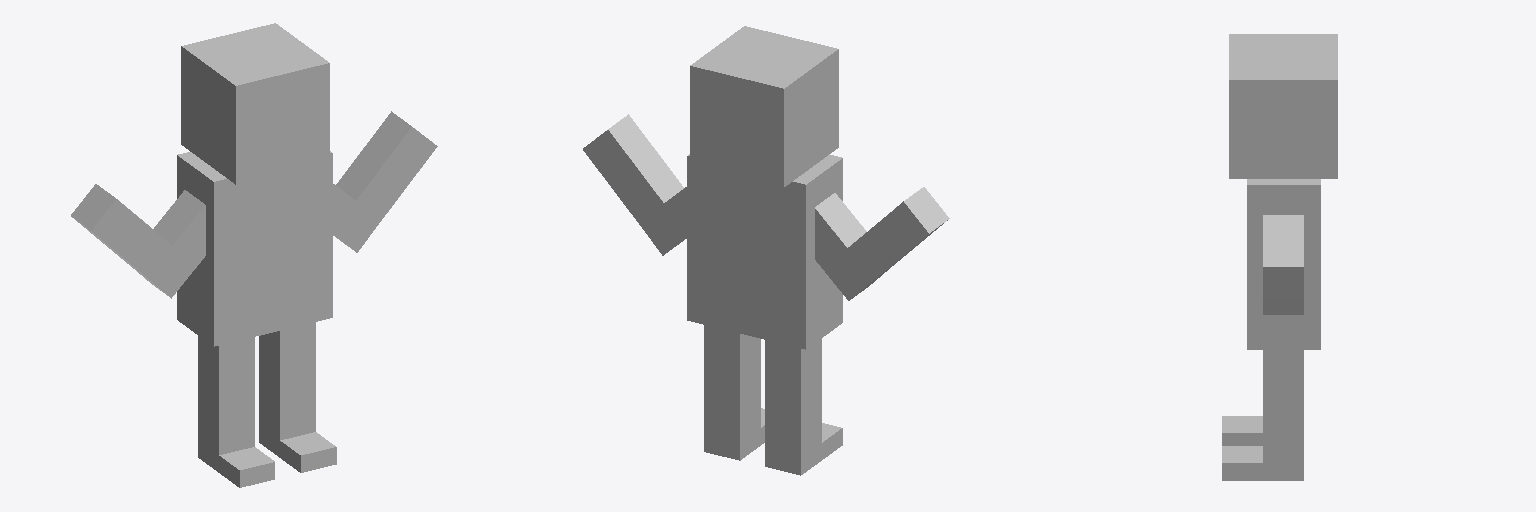
Rendered from boss.obj.
The picture shows the model from 3 angles: view 1: azimuth 30°, elevation 25°; view 2: azimuth 150°, elevation 25°; view 3: azimuth 270°, elevation 25°; orthographic projection.
Parts seen in each view (by area): view 1: Cube.009; view 2: Cube.009; view 3: Cube.009.
Boxes of the visible parts, x1=… form: Cube.009: x1=71, y1=23, x2=437, y2=487; Cube.009: x1=583, y1=26, x2=949, y2=475; Cube.009: x1=1222, y1=34, x2=1337, y2=480.
Size of the model in its own units: 0.7978 by 0.8779 by 0.2324.